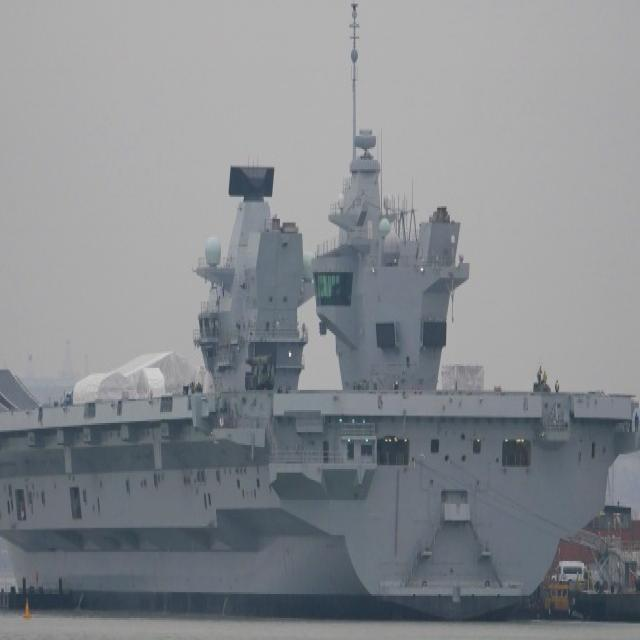Portanaves: (1, 1, 640, 624)
